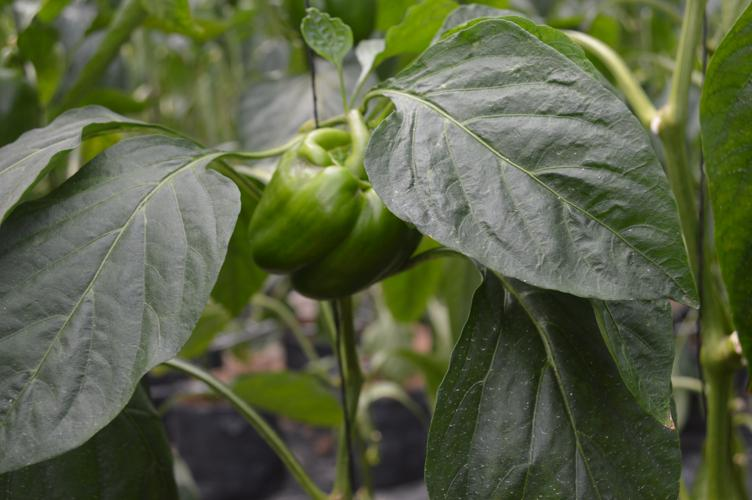BellPepper: (246, 130, 416, 310)
